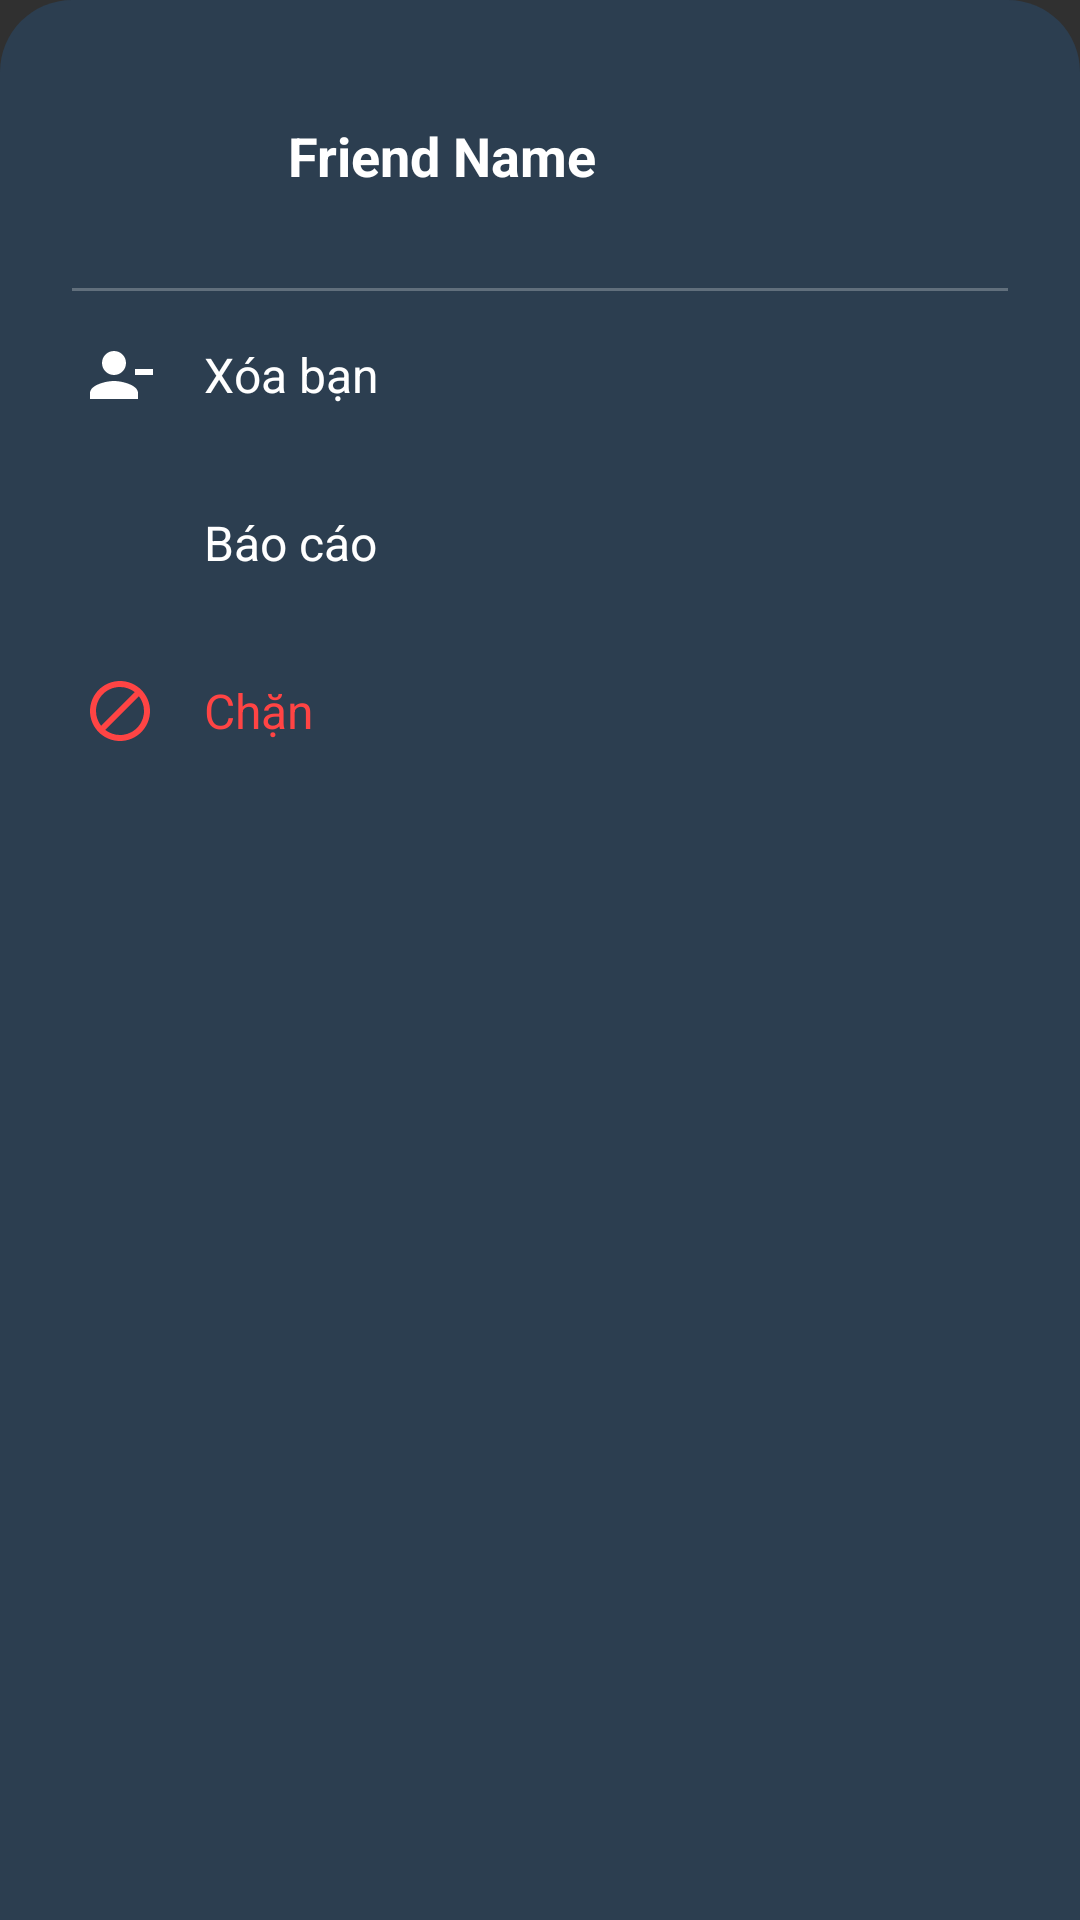

Locate icon controls on the screen. Image size 1080×1920, boxes as Rect(x1, y1, x2, y2).
block: Rect(90, 681, 150, 741)
person remove: Rect(90, 351, 153, 399)
